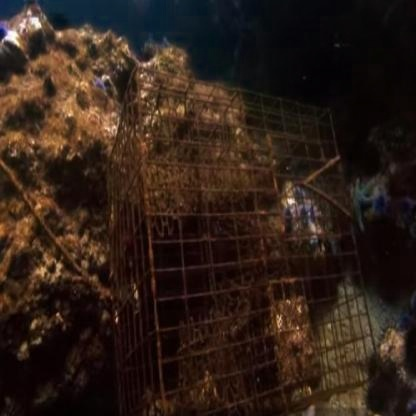misc: (104, 66, 381, 416)
